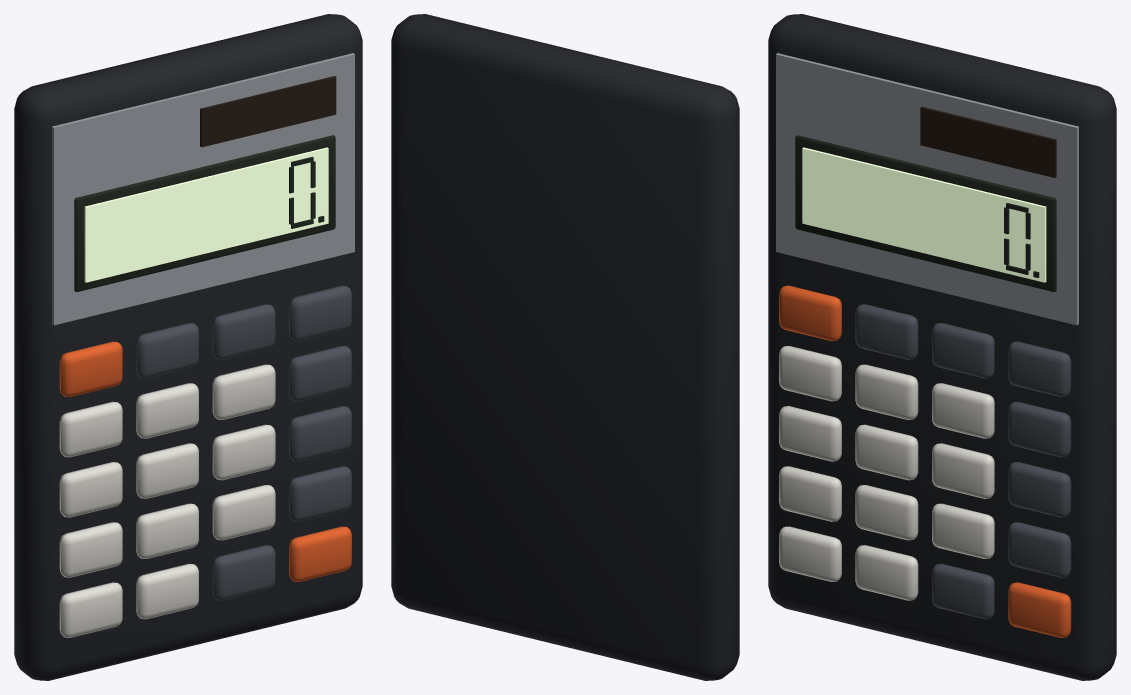
The model's file is calculator.glb.
3 views of the same model, side by side, from view 1: azimuth 30°, elevation 25°; view 2: azimuth 150°, elevation 25°; view 3: azimuth 330°, elevation 25° (orthographic).
Parts seen in each view (by area): view 1: Calculator; view 2: Calculator; view 3: Calculator.
Boxes of the visible parts, x1,y1,x2,y2 form: Calculator: (14, 14, 362, 680); Calculator: (391, 14, 739, 680); Calculator: (768, 14, 1116, 680).
Bounding box in the file's own units: 0.075 × 0.125 × 0.0138.
